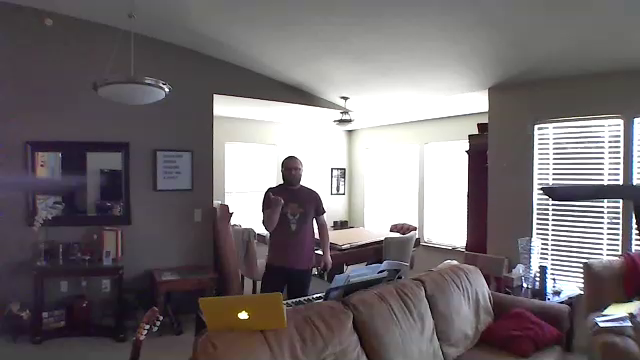land: (259, 186, 290, 207)
